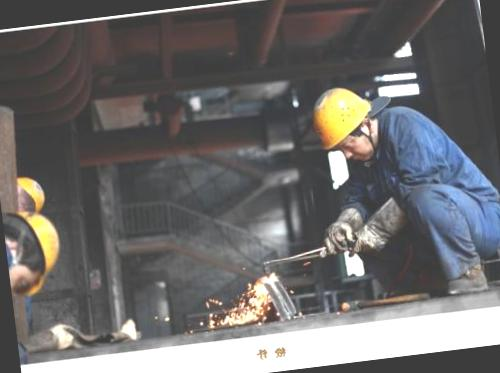person: (278, 69, 500, 312)
